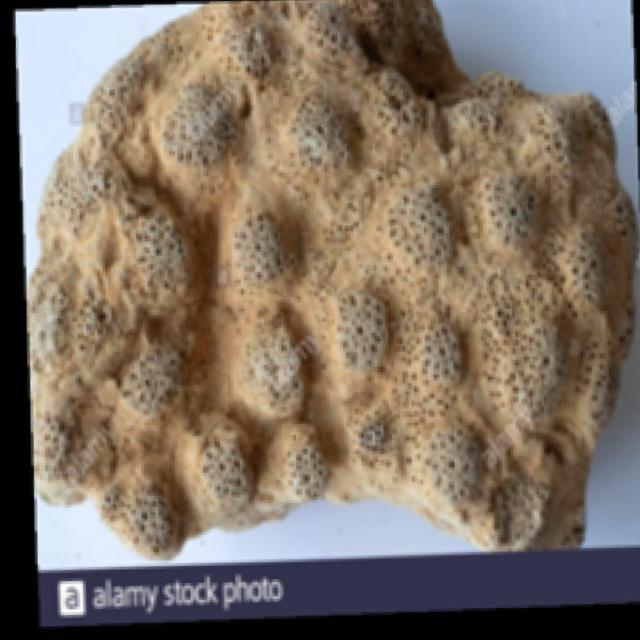Dead Coral: (34, 13, 607, 542)
